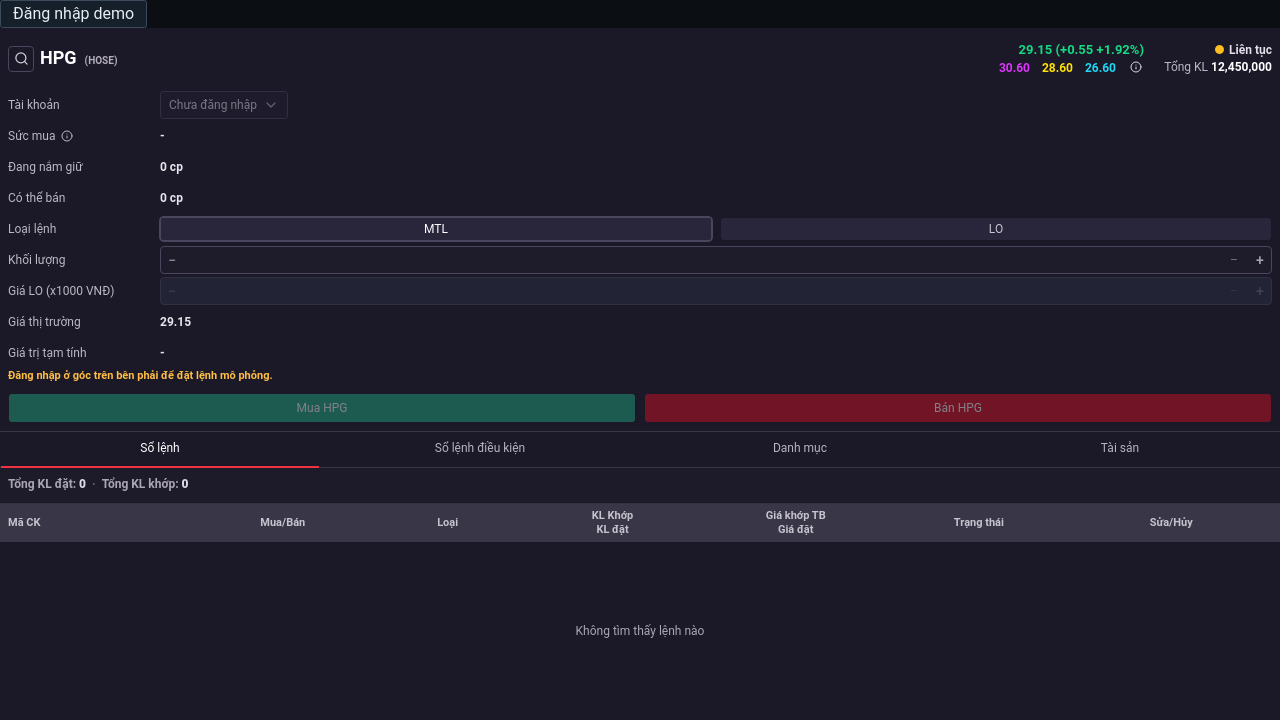
OrderTicketPanel › enables LO price entry and submits a simulated LO order
Click the button "Đăng nhập demo". click: [74, 14]
box: [0, 0, 147, 28]
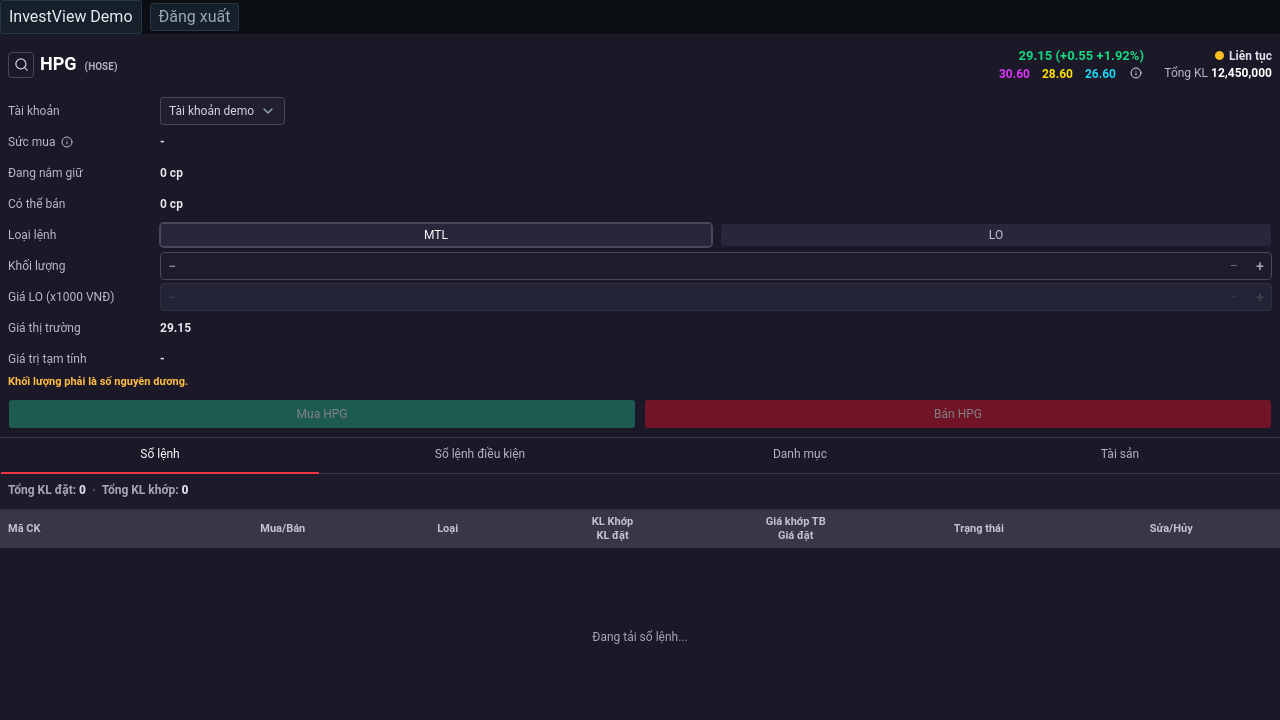
Click the button "LO". click: [996, 234]
box: [720, 222, 1272, 246]
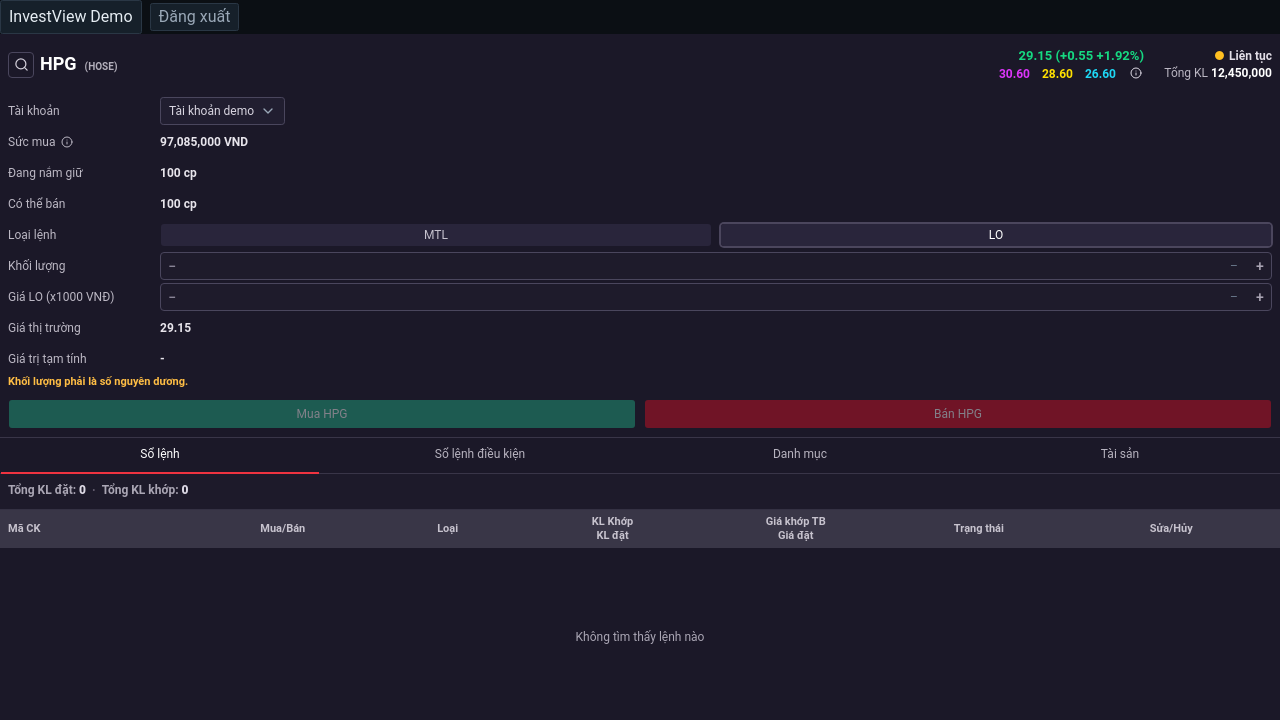
Type "100" into the field named "Khối lượng". click: [716, 266]
box: [188, 252, 1244, 278]
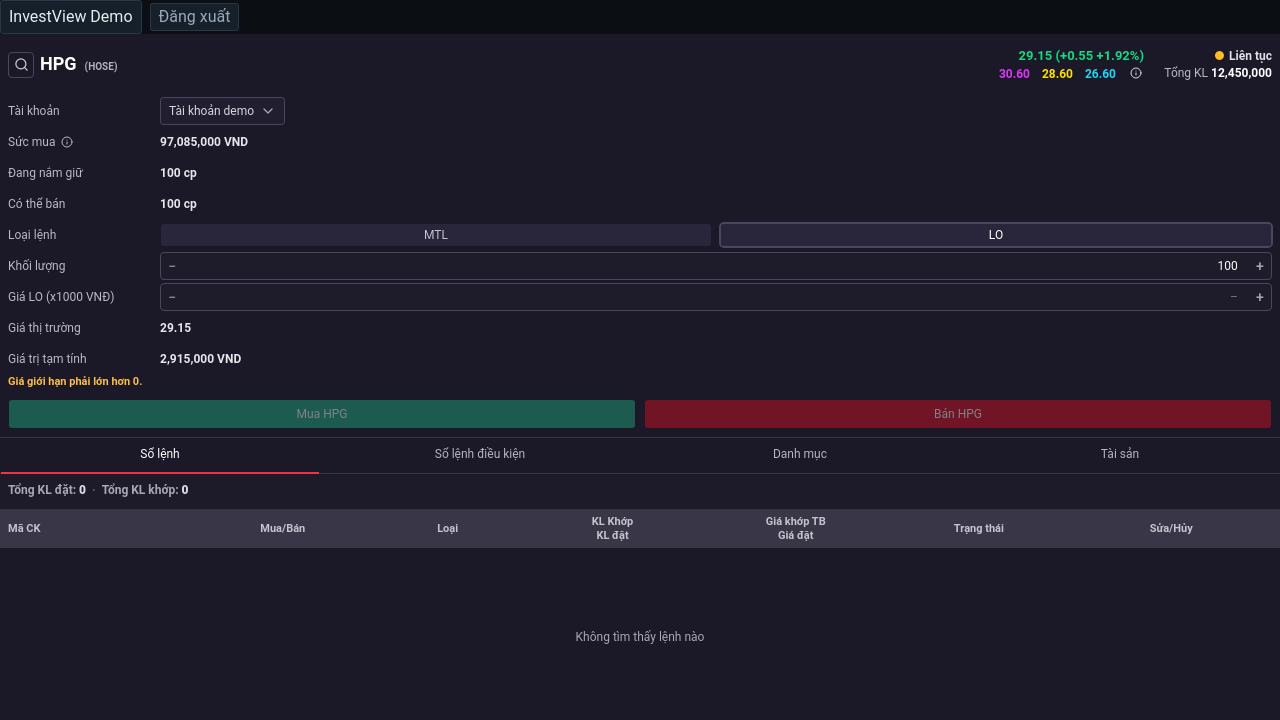
Type "28" into the field named "Giá LO (x1000 VNĐ)". click: [716, 296]
box: [188, 284, 1244, 310]
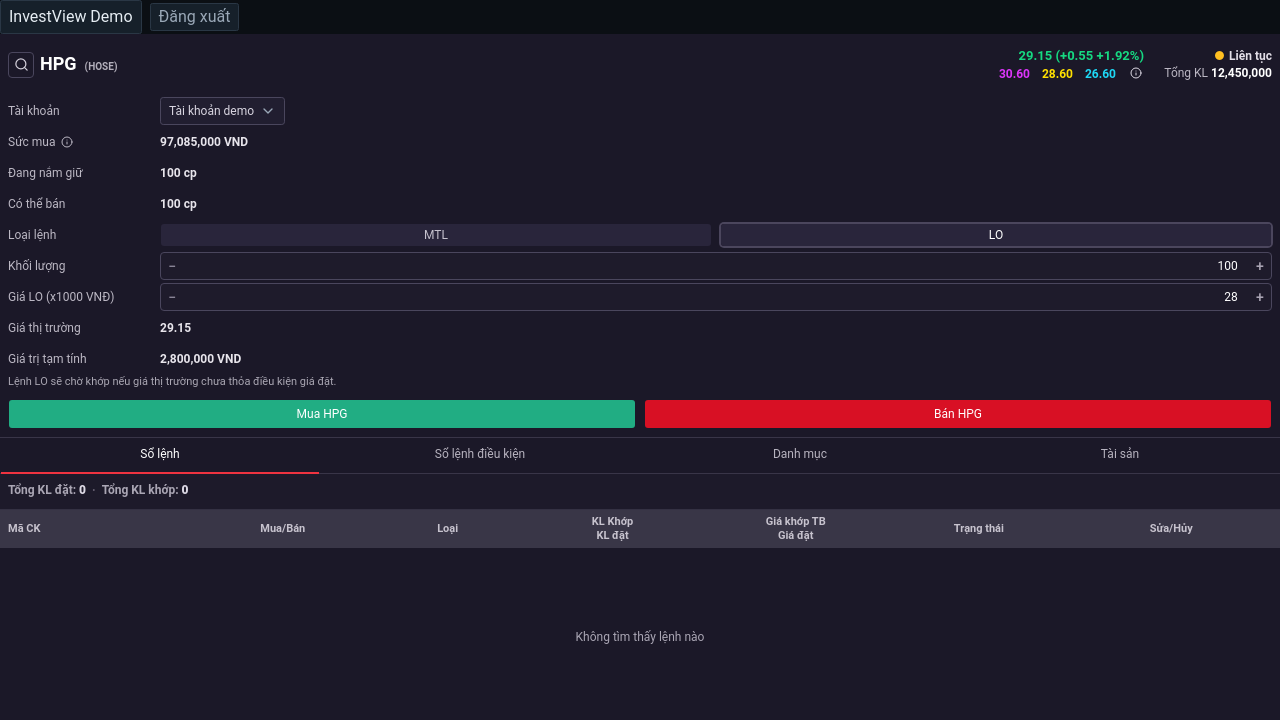
Click the button "Mua HPG". click: [322, 414]
box: [8, 398, 636, 428]
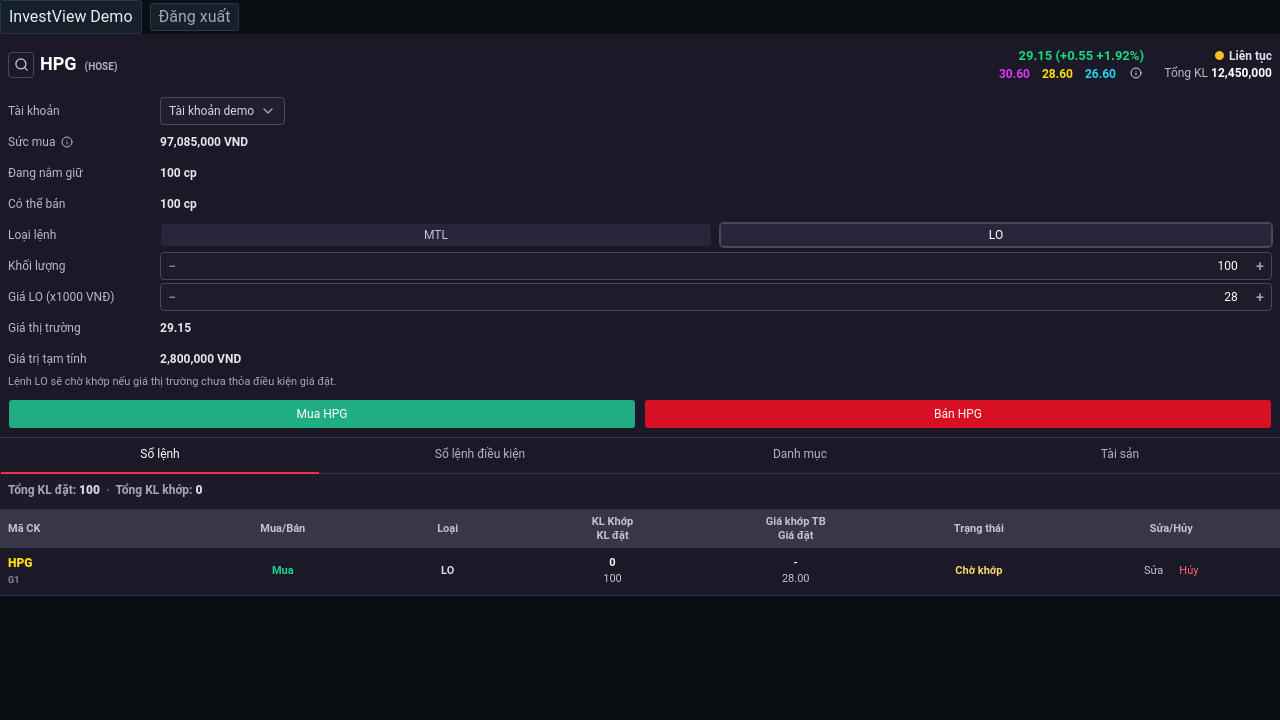
Result: the row named "HPG Mua LO Chờ khớp" is shown at [0, 548, 1279, 596]
